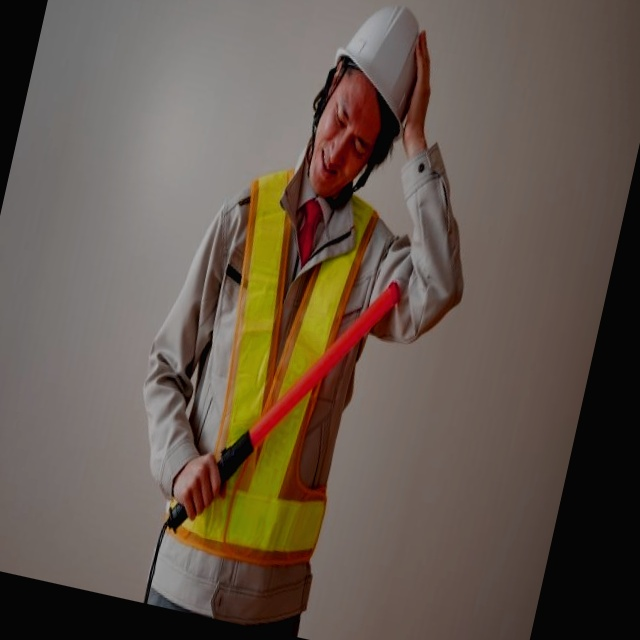Con_Casco: (299, 0, 433, 197)
Con_Chaleco: (162, 164, 397, 579)
